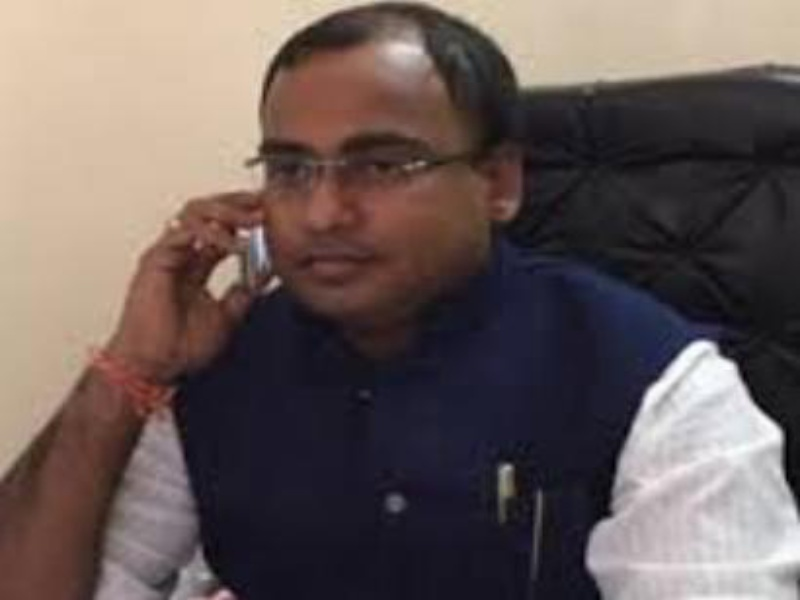TsisyArotava: (241, 7, 483, 340)
